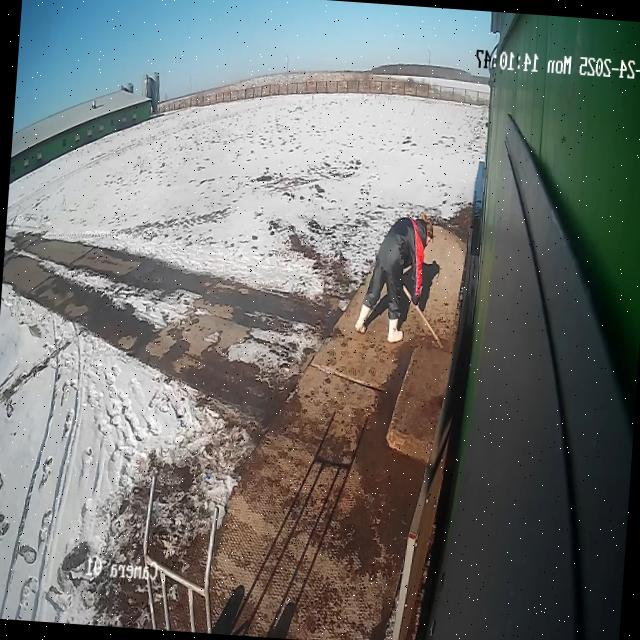Red uniform: (352, 208, 439, 348)
